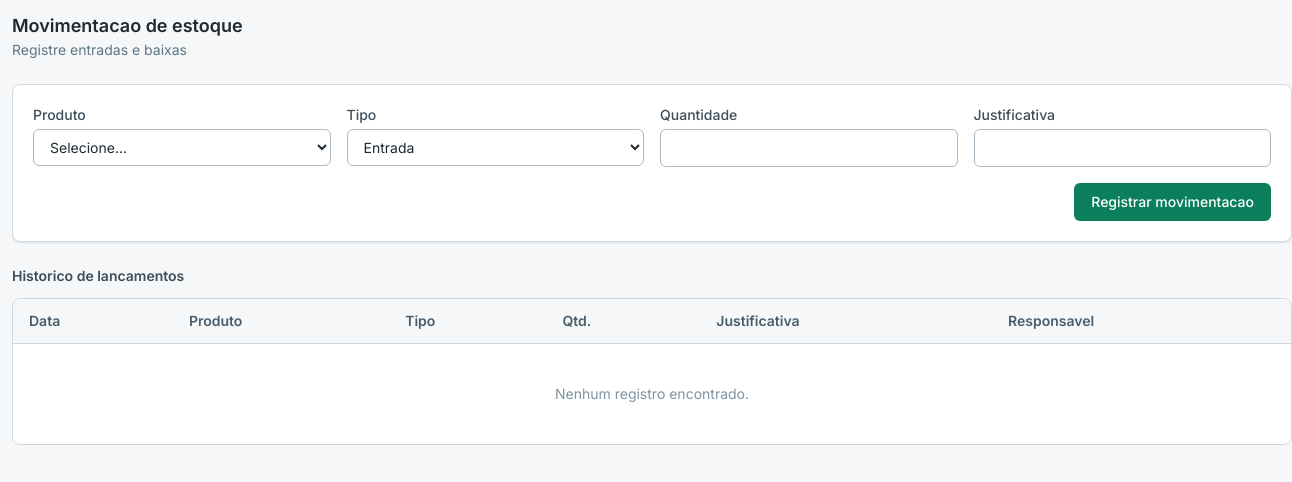
Test case: Movimentacoes (RN-F02) › bloqueia quantidade igual a zero
Check: the heading "Historico de lancamentos" is shown, box [12, 267, 184, 284]
Step 1. Select "Cabo Flexivel (saldo: 5)" in the dropdown labelled "Produto" → coordinates (182, 148), box [33, 129, 330, 166]
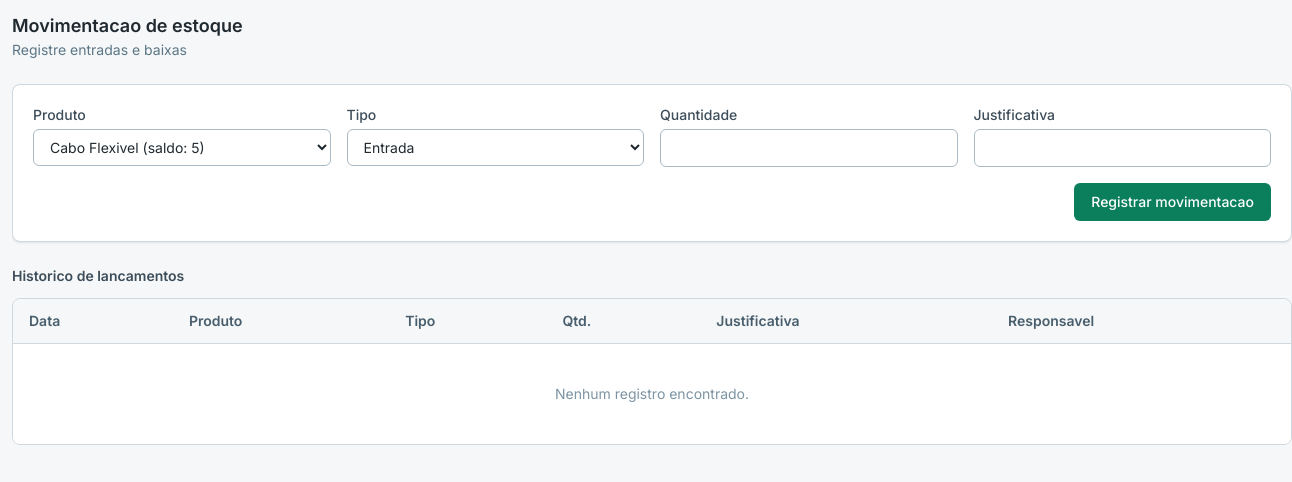
Step 2. Type "0" into the number field labelled "Quantidade" → coordinates (809, 148), box [660, 129, 958, 167]
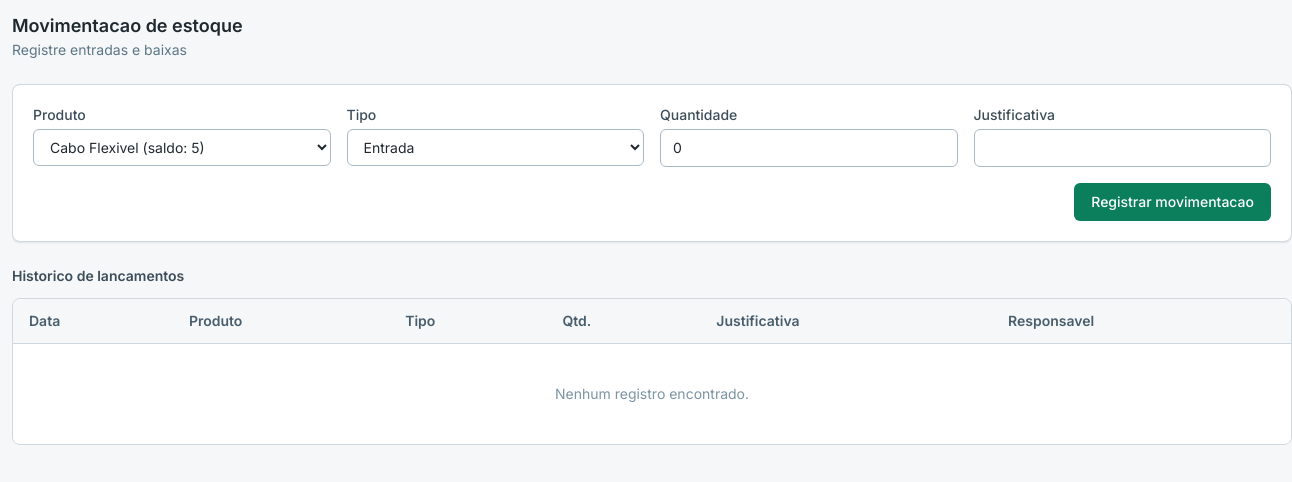
Step 3. Click the button "Registrar movimentacao" → coordinates (1173, 202), box [1074, 183, 1271, 221]
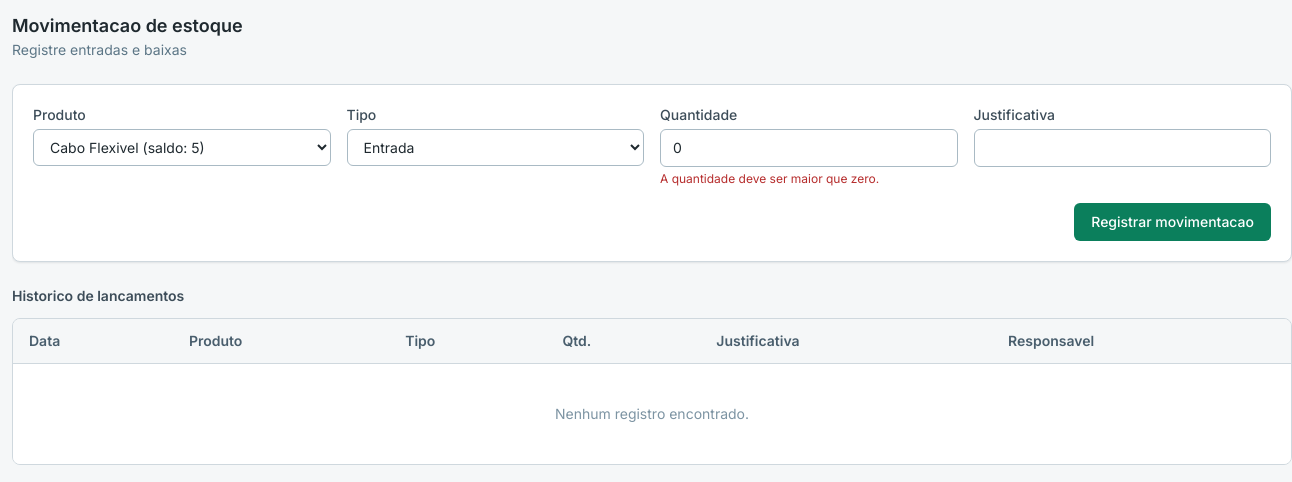
Check: the text "A quantidade deve ser maior que zero." is shown, box [660, 171, 879, 186]
